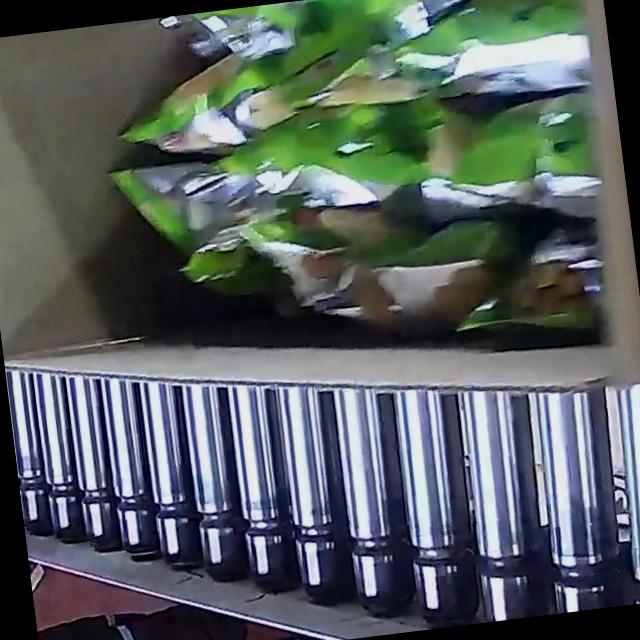yogurt: (86, 0, 623, 381)
